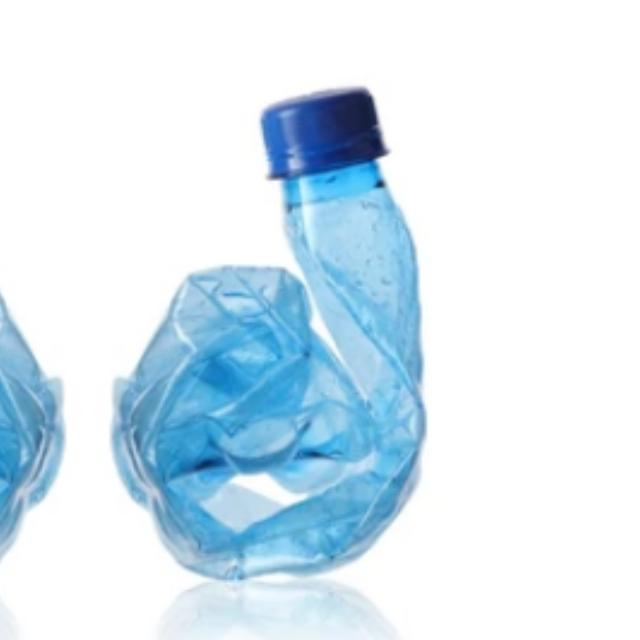Plastic: (89, 54, 495, 606), (0, 53, 85, 606), (608, 53, 640, 606)
